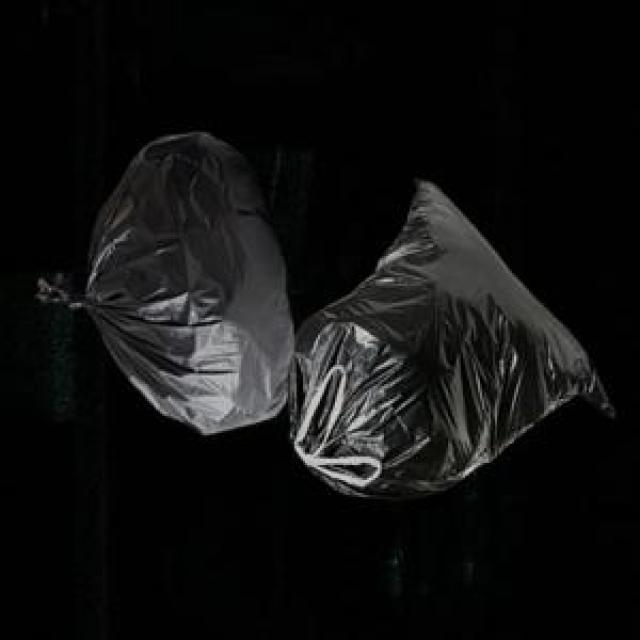Trashbag: (283, 175, 619, 508), (28, 122, 304, 444)
